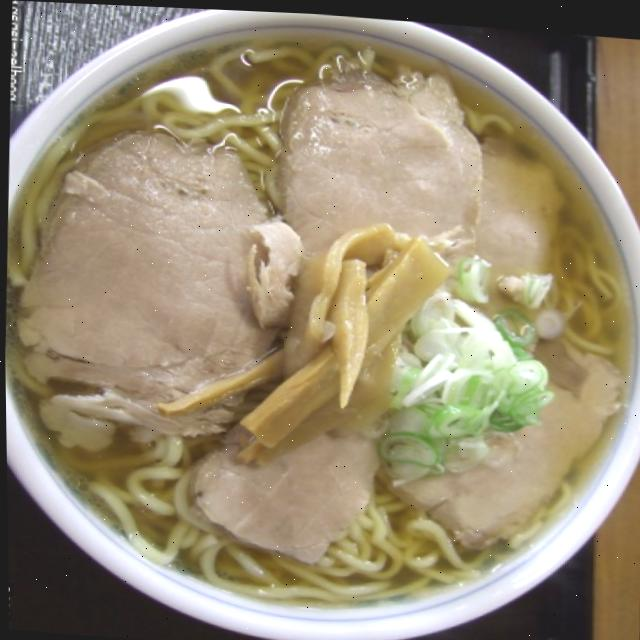面条主食: (0, 31, 636, 622)
